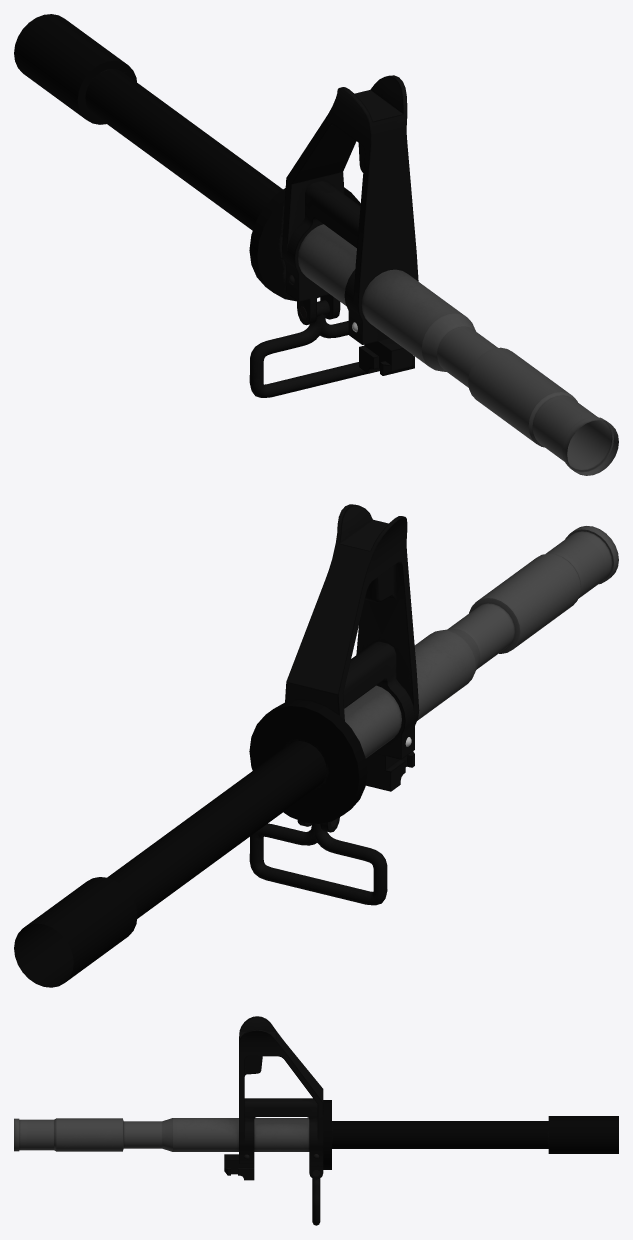
Rendered from M4_InnerBarrel.fbx.
3 renders of one model, top to bottom at view 1: azimuth 30°, elevation 25°; view 2: azimuth 150°, elevation 25°; view 3: azimuth 270°, elevation 25°, orthographic. The views are drawn at different scales.
Parts seen in each view (by area): view 1: BaseInnerBarrel; view 2: BaseInnerBarrel; view 3: BaseInnerBarrel.
Boxes of the visible parts, left/top/right/bottom form: BaseInnerBarrel: left=14, top=14, right=618, bottom=475; BaseInnerBarrel: left=14, top=504, right=618, bottom=987; BaseInnerBarrel: left=14, top=1016, right=618, bottom=1225.
Size of the model in its own units: 4.36 by 10.41 by 30.43.
Materials: 1 (1 with a texture image).
